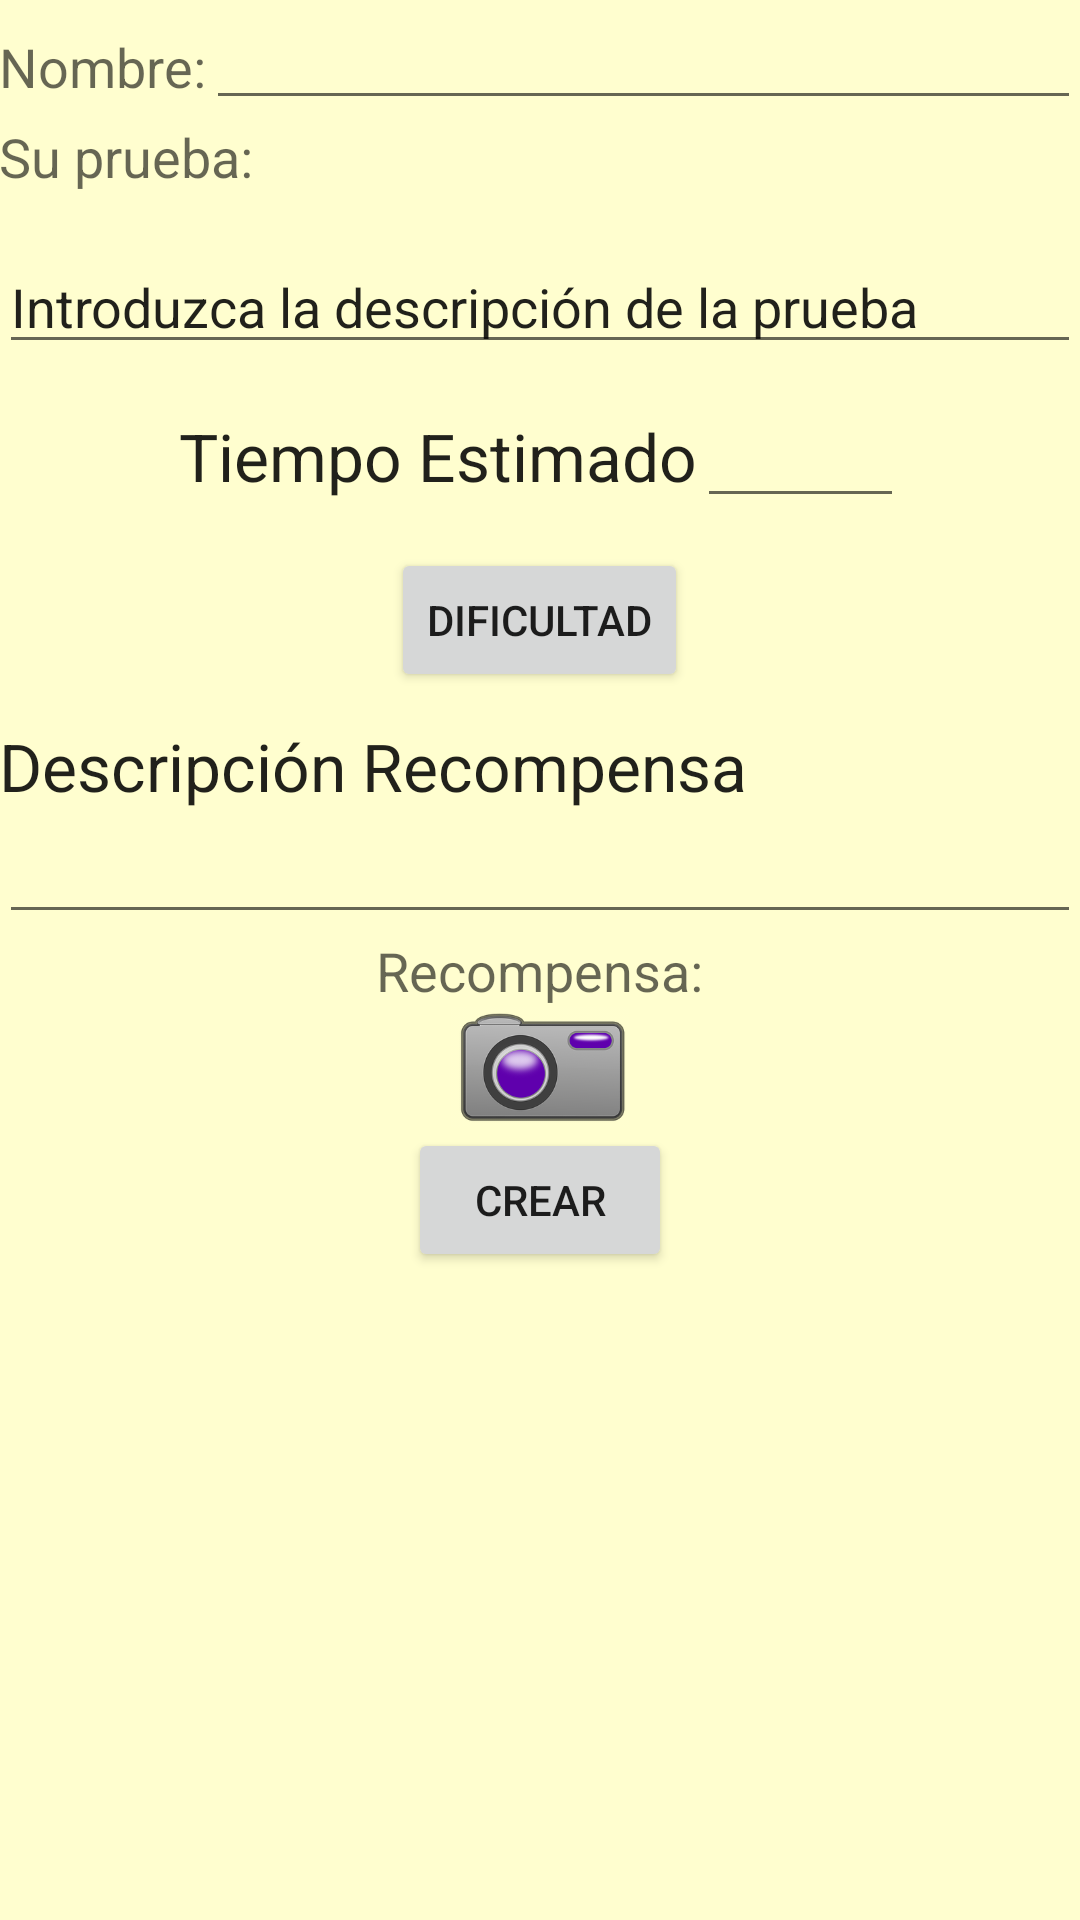

Screen size 1080×1920. Icon name, then its center in pixels as (x,y):
camara: (543,1067)
